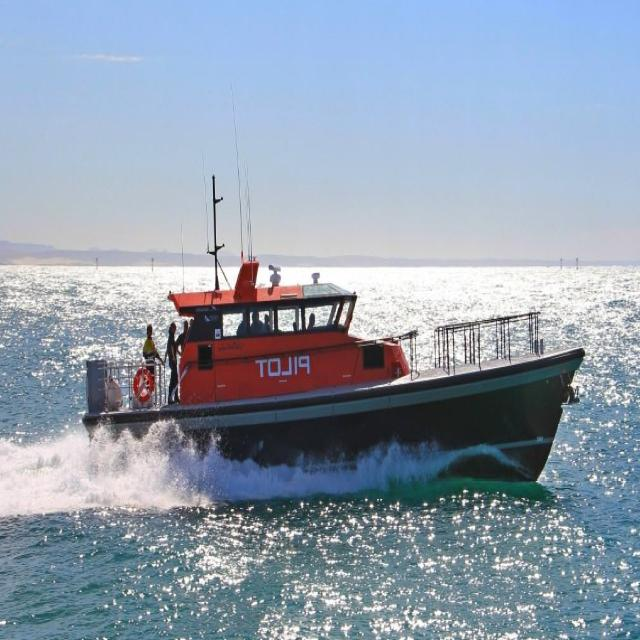houseboat: (82, 233, 592, 508)
